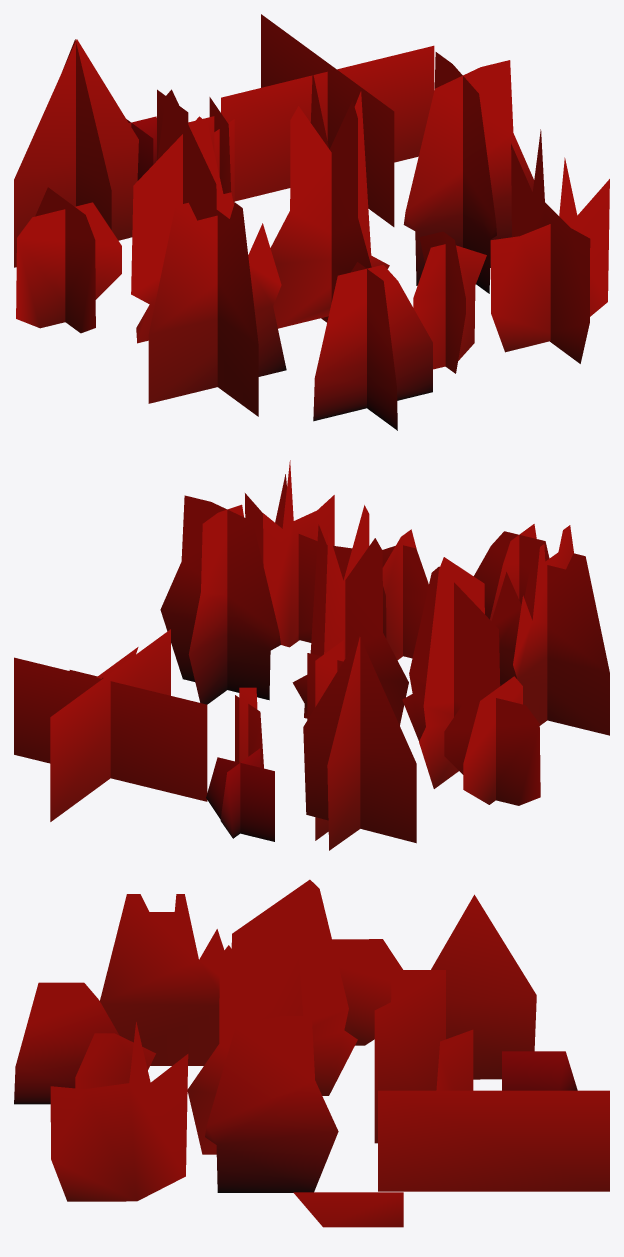
Rendered from Dead Bushes 14.fbx.
The picture shows the model from 3 angles, top to bottom: view 1: azimuth 30°, elevation 25°; view 2: azimuth 150°, elevation 25°; view 3: azimuth 270°, elevation 25°; orthographic projection. The views are drawn at different scales.
Parts seen in each view (by area): view 1: Bush 1, Bush 7, Bush 10, Bush 5, Bush 13, Bush 3, Bush 6, Bush 2, Bush 12, Bush 8, Bush 11, Bush 4 (+1 smaller); view 2: Bush 7, Bush 5, Bush 3, Bush 1, Bush 12, Bush 13, Bush 2, Bush 10, Bush 4, Bush 8, Bush 6, Bush 11 (+1 smaller); view 3: Bush 7, Bush 5, Bush 10, Bush 1, Bush 12, Bush 3, Bush 14, Bush 6, Bush 13, Bush 2, Bush 9, Bush 4 (+2 smaller).
Boxes of the visible parts, bbox=[...] form: Bush 1: bbox=[148, 184, 286, 416]; Bush 7: bbox=[221, 14, 434, 226]; Bush 10: bbox=[490, 129, 609, 363]; Bush 5: bbox=[403, 52, 534, 293]; Bush 13: bbox=[270, 72, 389, 328]; Bush 3: bbox=[14, 39, 138, 267]; Bush 6: bbox=[313, 262, 432, 430]; Bush 2: bbox=[16, 187, 121, 333]; Bush 12: bbox=[131, 89, 223, 343]; Bush 8: bbox=[413, 231, 486, 373]; Bush 11: bbox=[209, 97, 234, 204]; Bush 4: bbox=[126, 116, 156, 180]; Bush 7: bbox=[14, 629, 207, 821]; Bush 5: bbox=[160, 495, 280, 704]; Bush 3: bbox=[303, 636, 416, 850]; Bush 1: bbox=[491, 525, 609, 735]; Bush 12: bbox=[402, 557, 500, 788]; Bush 13: bbox=[292, 505, 408, 725]; Bush 2: bbox=[444, 676, 540, 805]; Bush 10: bbox=[245, 460, 352, 647]; Bush 4: bbox=[206, 748, 274, 841]; Bush 8: bbox=[382, 529, 428, 660]; Bush 6: bbox=[473, 524, 549, 620]; Bush 11: bbox=[235, 687, 263, 768]; Bush 7: bbox=[378, 1090, 609, 1191]; Bush 5: bbox=[205, 1016, 338, 1192]; Bush 10: bbox=[50, 1022, 188, 1201]; Bush 1: bbox=[100, 894, 224, 1065]; Bush 12: bbox=[231, 879, 357, 1095]; Bush 3: bbox=[431, 894, 536, 1079]; Bush 14: bbox=[374, 970, 445, 1143]; Bush 6: bbox=[14, 982, 119, 1104]; Bush 13: bbox=[187, 945, 303, 1154]; Bush 2: bbox=[332, 939, 402, 1045]; Bush 9: bbox=[293, 1192, 403, 1227]; Bush 4: bbox=[502, 1051, 577, 1090].
Bounding box in the file's own units: 221 × 112 × 255.
